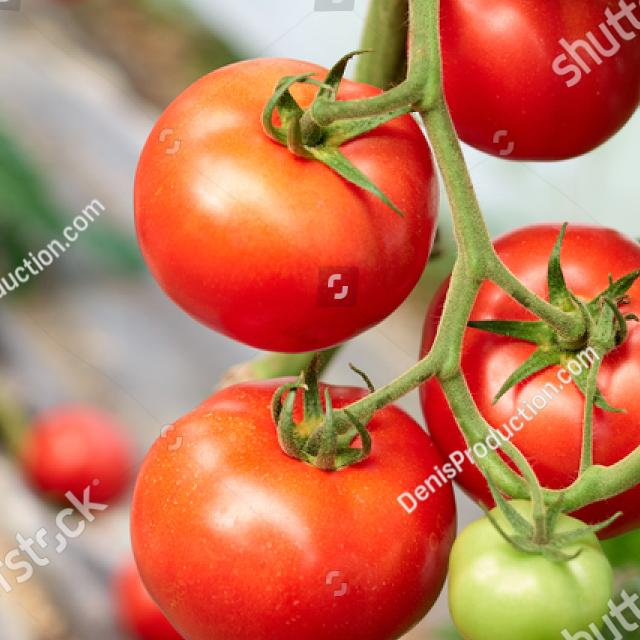tomato: (134, 60, 437, 352), (131, 378, 462, 640), (461, 222, 640, 488), (421, 380, 494, 506), (569, 484, 640, 536)
